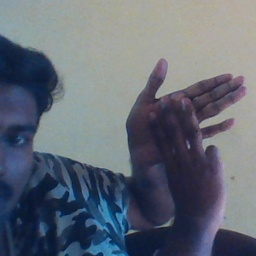M: (123, 57, 250, 233)
